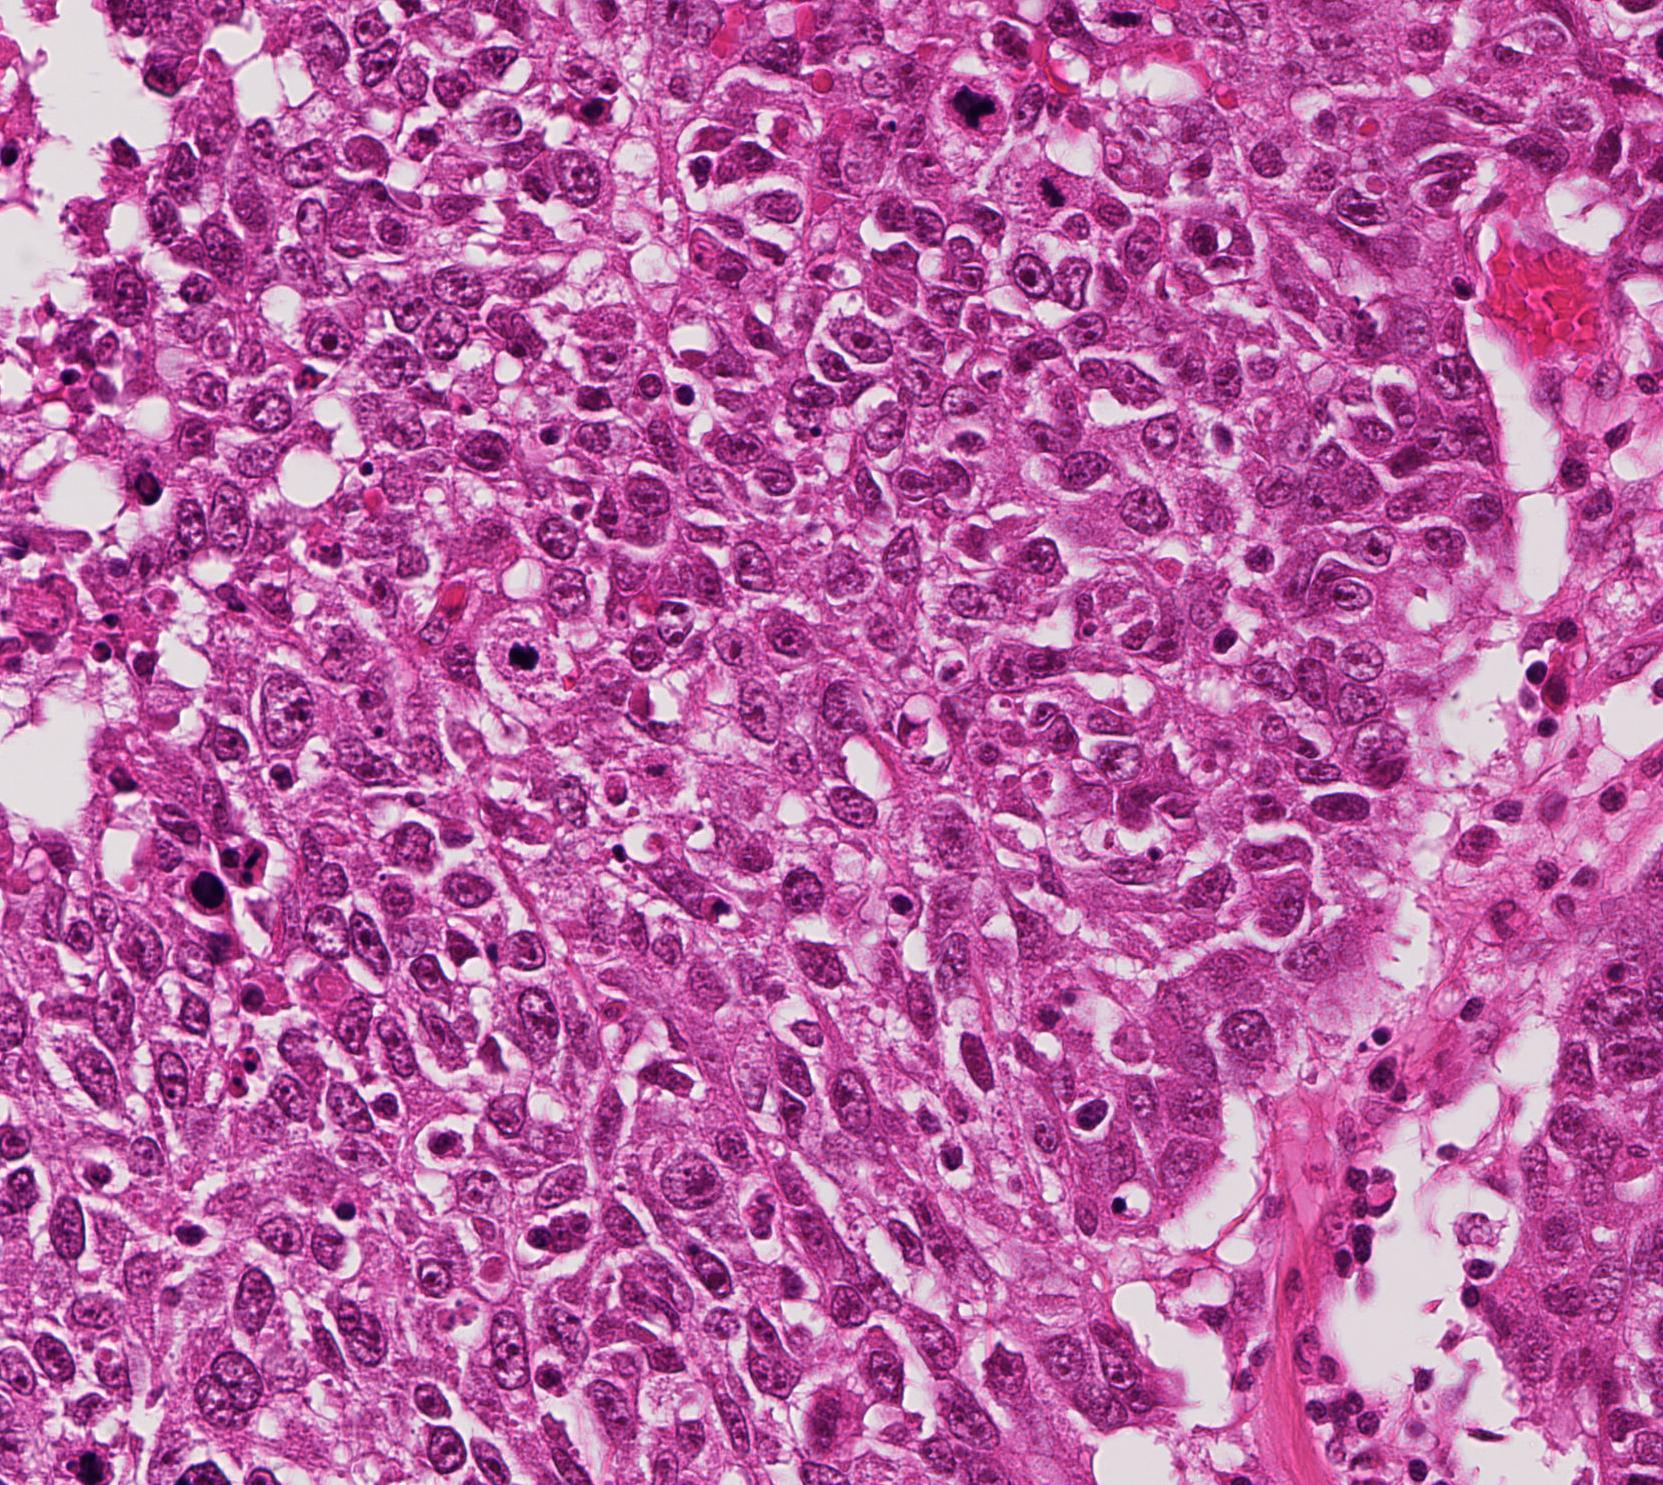mitosis: (1019, 163, 1080, 224), (492, 628, 552, 688)
